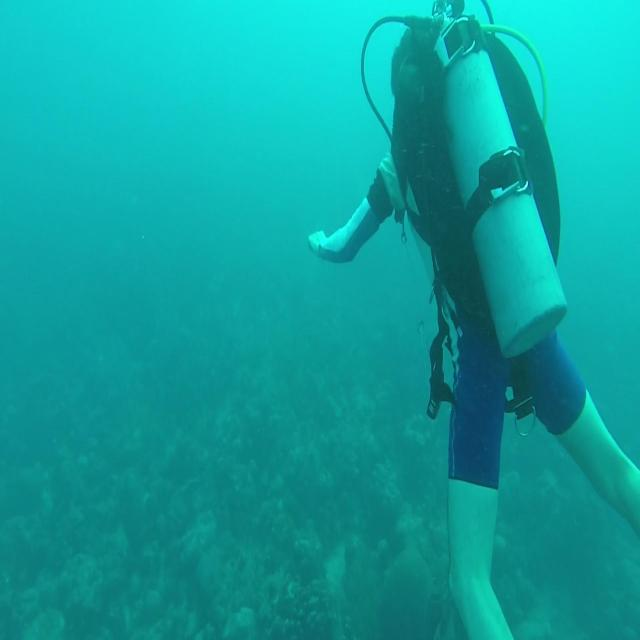human: (307, 1, 639, 638)
